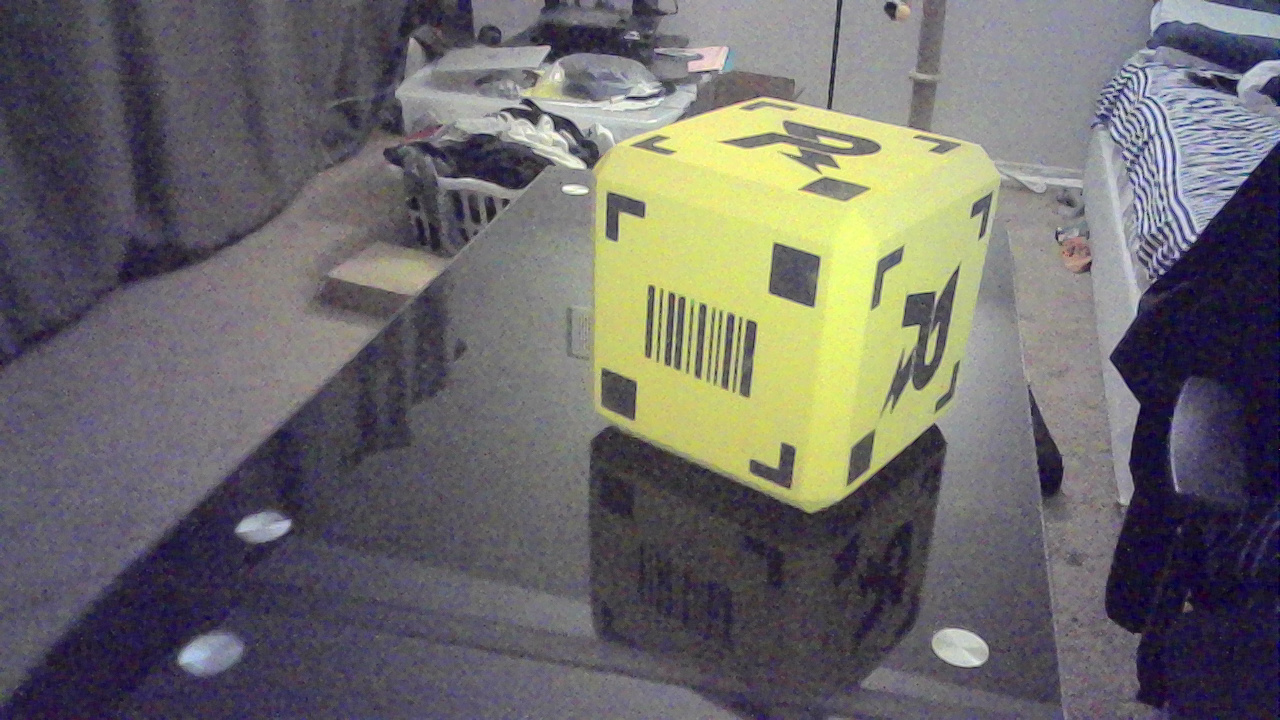Barcode: (646, 298, 774, 401)
R: (724, 120, 892, 186), (892, 274, 965, 403)
